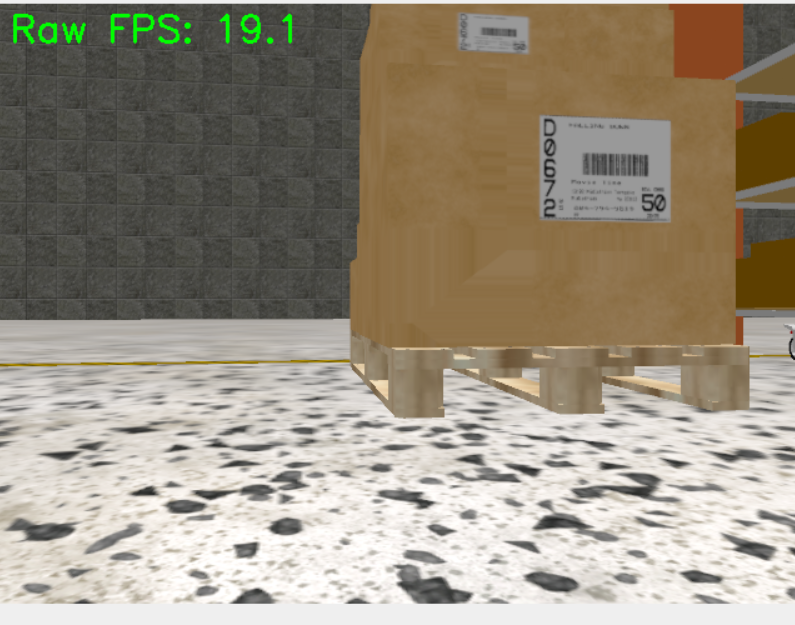barcode: (537, 113, 674, 225), (460, 11, 529, 55)
